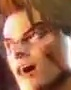kevin: (3, 6, 62, 87)
